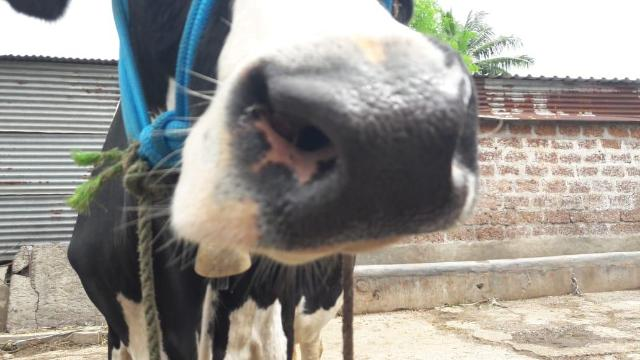Muzzle: (271, 64, 481, 241)
